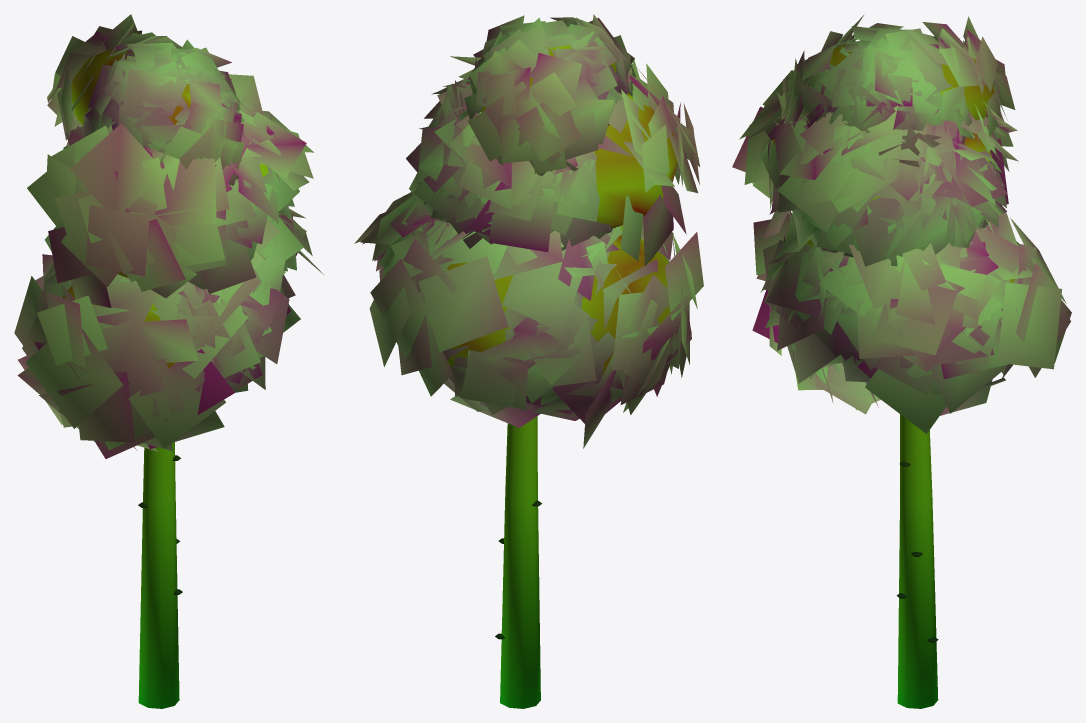
File: tree_birch_b.glb
3 renders of one model, left to right at view 1: azimuth 30°, elevation 25°; view 2: azimuth 150°, elevation 25°; view 3: azimuth 270°, elevation 25°, orthographic.
Visible parts, largest first — view 1: tree_birch_b; view 2: tree_birch_b; view 3: tree_birch_b.
Boxes of the visible parts, x1,y1,x2,y2 form: tree_birch_b: (14, 14, 323, 708); tree_birch_b: (354, 14, 703, 708); tree_birch_b: (732, 14, 1071, 708).
Size of what is drawn, in the model's own units: 3.34 by 7.06 by 3.26.
